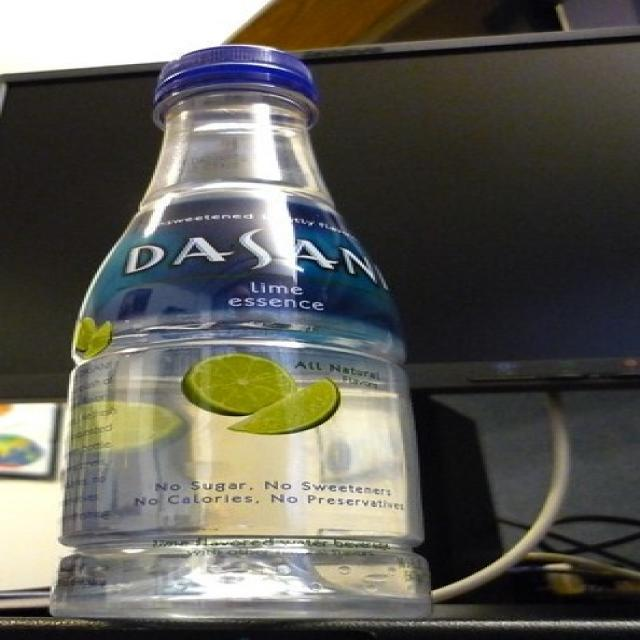plastic_bottle: (49, 45, 433, 619)
